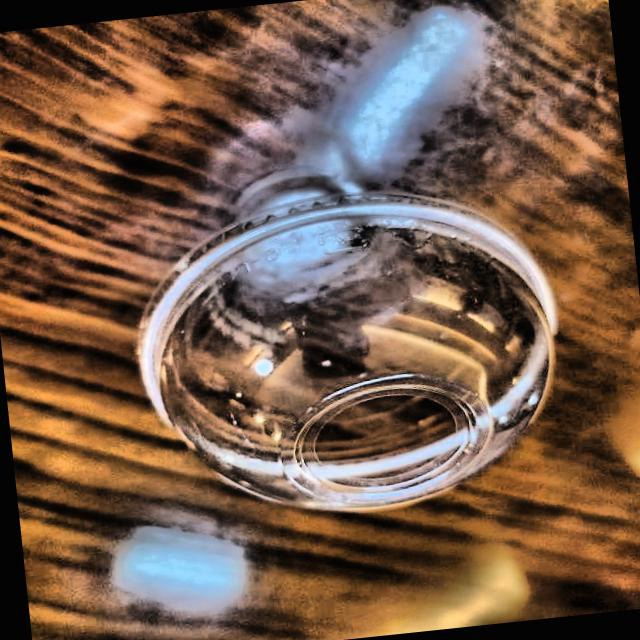plastic cup: (93, 107, 598, 546)
